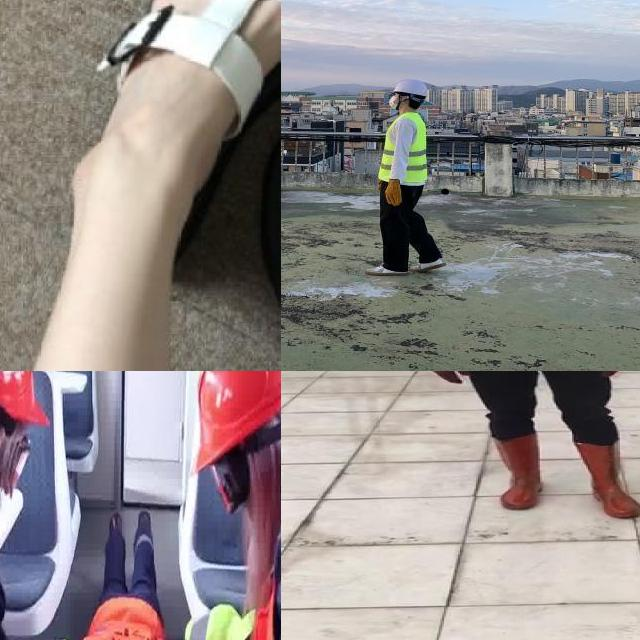Sandals: (66, 0, 281, 278)
boots: (573, 442, 640, 519), (490, 427, 546, 510), (410, 259, 447, 273), (365, 266, 409, 276), (110, 512, 123, 530), (138, 511, 151, 529)
glasses: (210, 421, 281, 512), (0, 435, 34, 491)
head_helmet: (194, 371, 281, 472), (389, 79, 428, 97)
person: (402, 371, 640, 524), (182, 371, 281, 640), (356, 78, 474, 286), (0, 371, 84, 640), (84, 495, 194, 640)
vest: (78, 597, 185, 640), (378, 113, 428, 183)
